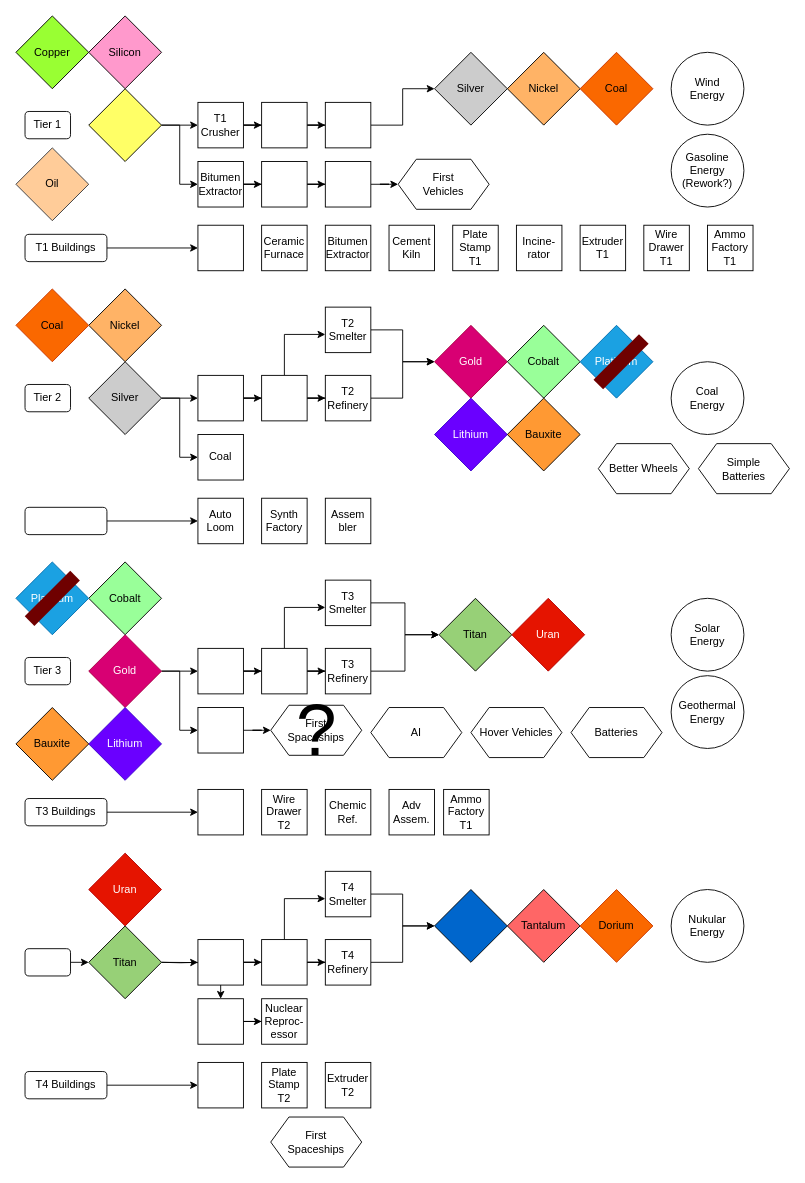
Image size: 805x1183. Some labels were removed from this diagram. Each missing label, with the box of its shape:
Fabri- cator: (197, 224, 243, 271)
Gasoline Refinery: (324, 161, 371, 207)
Iron: (88, 88, 162, 162)
Micro Electon ics: (197, 789, 243, 835)
Nano Assem.: (197, 1062, 243, 1108)
Neutronium: (434, 889, 507, 962)
Oil Cracker: (261, 161, 307, 207)
Rocket Fuel Refinery: (197, 707, 243, 753)
T1 Purifier: (261, 101, 307, 148)
T1 Smelter: (324, 101, 371, 148)
T2 Buildings: (24, 506, 107, 535)
T2 Crusher: (197, 374, 243, 421)
T2 Purifier: (261, 374, 307, 421)
T3 Crusher: (197, 647, 243, 694)
T3 Purifier: (261, 647, 307, 694)
T4 Crusher: (197, 939, 243, 985)
T4 Purifier: (261, 939, 307, 985)
Tier 4: (24, 948, 71, 976)
Uran Centri- fuge: (197, 998, 243, 1044)
